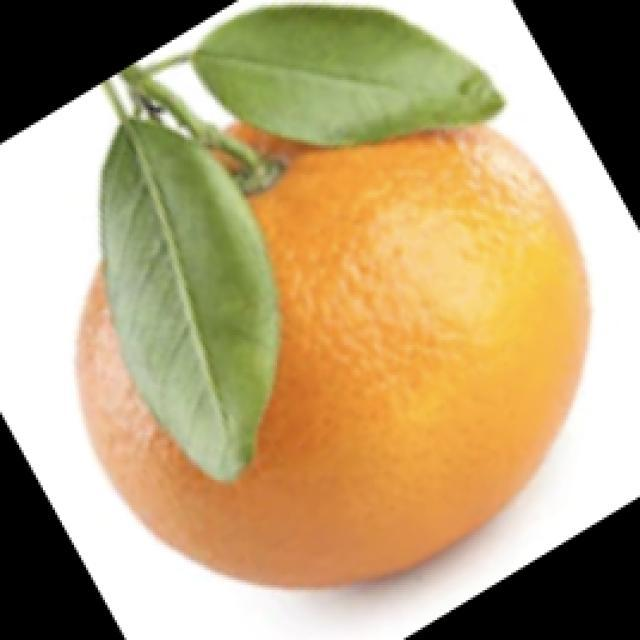matang: (79, 5, 588, 585)
